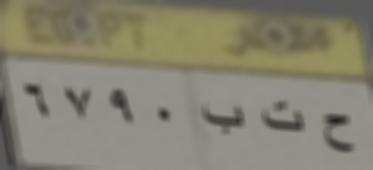0: (152, 98, 179, 134)
6: (18, 74, 54, 134)
7: (60, 80, 92, 131)
7aa: (318, 105, 359, 158)
9: (105, 82, 138, 136)
baa: (199, 93, 246, 142)
taa: (255, 91, 310, 141)
